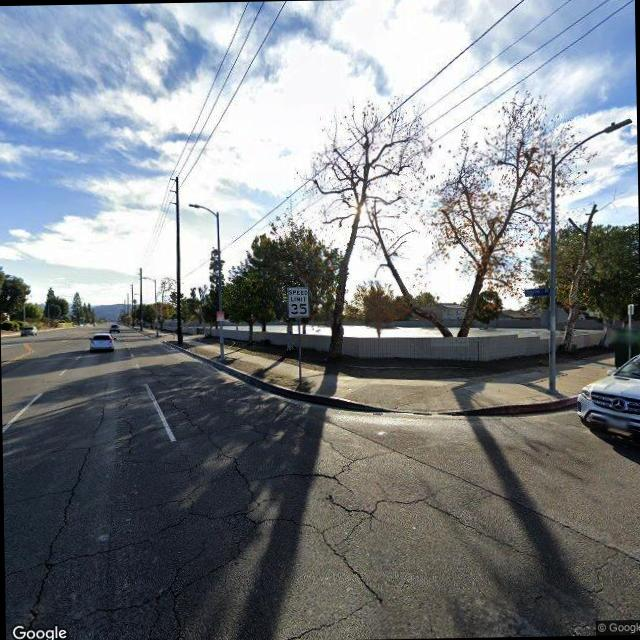crack: (9, 370, 416, 636)
